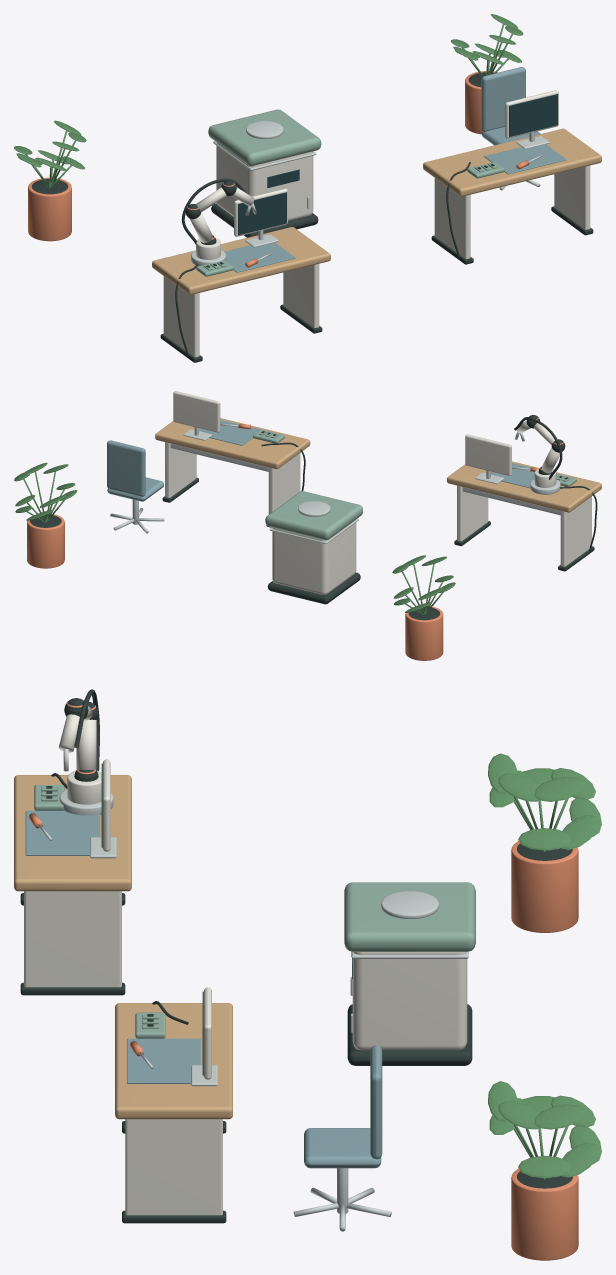
Rendered from robotics-hero.glb.
3 views of the same model, one above another, from view 1: azimuth 30°, elevation 25°; view 2: azimuth 150°, elevation 25°; view 3: azimuth 270°, elevation 25° (orthographic). The views are drawn at different scales.
Parts seen in each view (by area): view 1: Hero_Porcelain, Hero_Oak, Hero_Fabric, Hero_Sage, Hero_Rubber, Hero_Screen, Hero_Coral, Hero_Leaf, Hero_Aluminium; view 2: Hero_Porcelain, Hero_Oak, Hero_Fabric, Hero_Coral, Hero_Sage, Hero_Aluminium, Hero_Rubber, Hero_Leaf; view 3: Hero_Porcelain, Hero_Oak, Hero_Leaf, Hero_Coral, Hero_Fabric, Hero_Sage, Hero_Rubber, Hero_Aluminium.
Part boxes in pixels (x1=…): Hero_Porcelain: x1=163, y1=90, x2=590, y2=357; Hero_Oak: x1=152, y1=128, x2=601, y2=294; Hero_Fabric: x1=224, y1=67, x2=566, y2=272; Hero_Sage: x1=196, y1=109, x2=504, y2=276; Hero_Rubber: x1=31, y1=72, x2=593, y2=362; Hero_Screen: x1=238, y1=94, x2=557, y2=235; Hero_Coral: x1=28, y1=71, x2=529, y2=267; Hero_Leaf: x1=14, y1=14, x2=523, y2=187; Hero_Aluminium: x1=191, y1=121, x2=549, y2=266; Hero_Porcelain: x1=165, y1=391, x2=591, y2=594; Hero_Oak: x1=155, y1=418, x2=601, y2=512; Hero_Fabric: x1=107, y1=419, x2=534, y2=501; Hero_Coral: x1=27, y1=417, x2=563, y2=660; Hero_Sage: x1=253, y1=429, x2=576, y2=540; Hero_Aluminium: x1=110, y1=424, x2=560, y2=543; Hero_Rubber: x1=30, y1=415, x2=597, y2=620; Hero_Leaf: x1=14, y1=462, x2=455, y2=614; Hero_Porcelain: x1=24, y1=706, x2=467, y2=1215; Hero_Oak: x1=14, y1=775, x2=232, y2=1119; Hero_Leaf: x1=488, y1=753, x2=601, y2=1179; Hero_Coral: x1=28, y1=700, x2=578, y2=1260; Hero_Fabric: x1=25, y1=810, x2=382, y2=1168; Hero_Sage: x1=34, y1=785, x2=475, y2=1038; Hero_Rubber: x1=20, y1=689, x2=572, y2=1223; Hero_Aluminium: x1=38, y1=748, x2=468, y2=1231.
Size of the model in its own units: 26.61 by 7.88 by 17.44.
